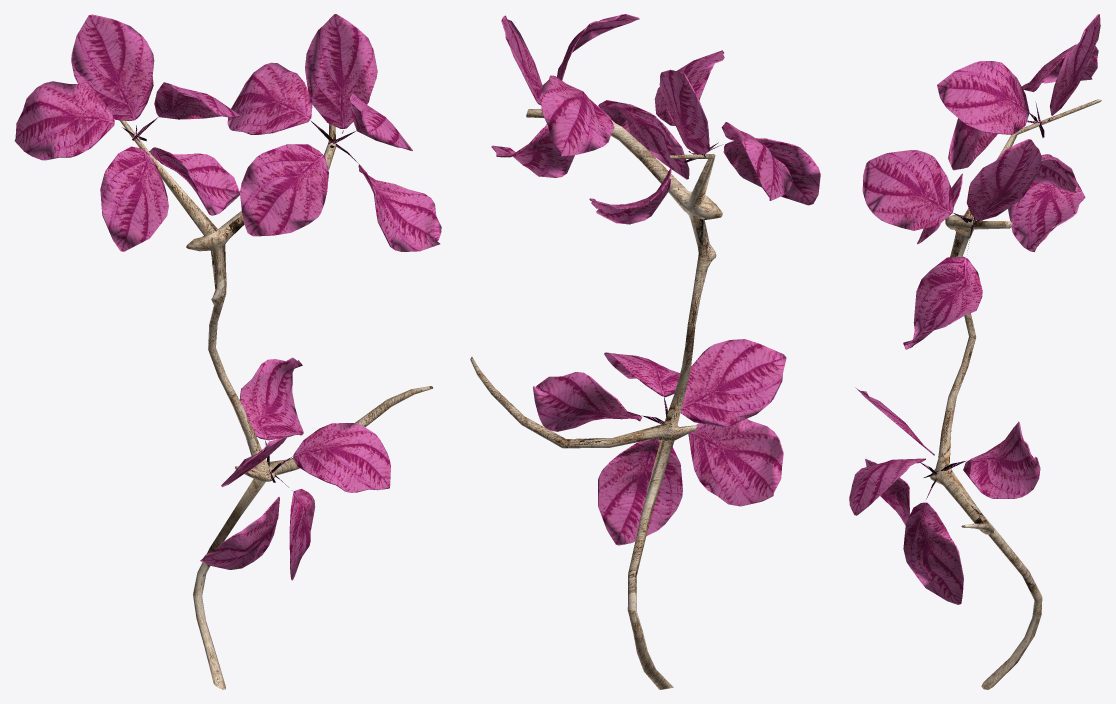
File: Plant 4.FBX
The picture shows the model from 3 angles, left to right: view 1: azimuth 30°, elevation 25°; view 2: azimuth 150°, elevation 25°; view 3: azimuth 270°, elevation 25°; orthographic projection. The views are drawn at different scales.
Visible parts, largest first — view 1: plant 4; view 2: plant 4; view 3: plant 4.
Part boxes in pixels (x1,y1,x2,y2): plant 4: (14,14,441,689); plant 4: (470,14,820,689); plant 4: (849,14,1101,689).
Size of the model in its own units: 22.78 by 40.08 by 14.36.
Materials: 2 (2 with a texture image).
